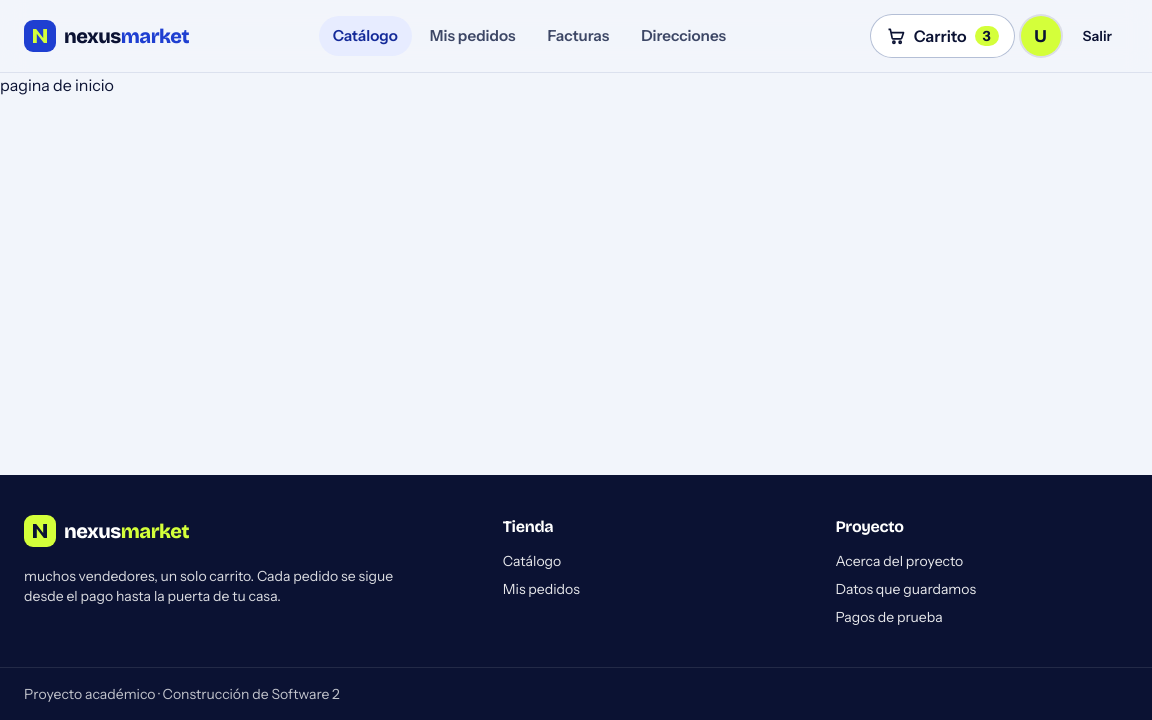
Test case: cart side panel › opens from the cart button with the lines, the total and the two ways out
This screenshot has width=1152, height=720.
Click the button with aria-label "Carrito, 3 productos" at {"x": 942, "y": 36}, box [870,14,1014,58]
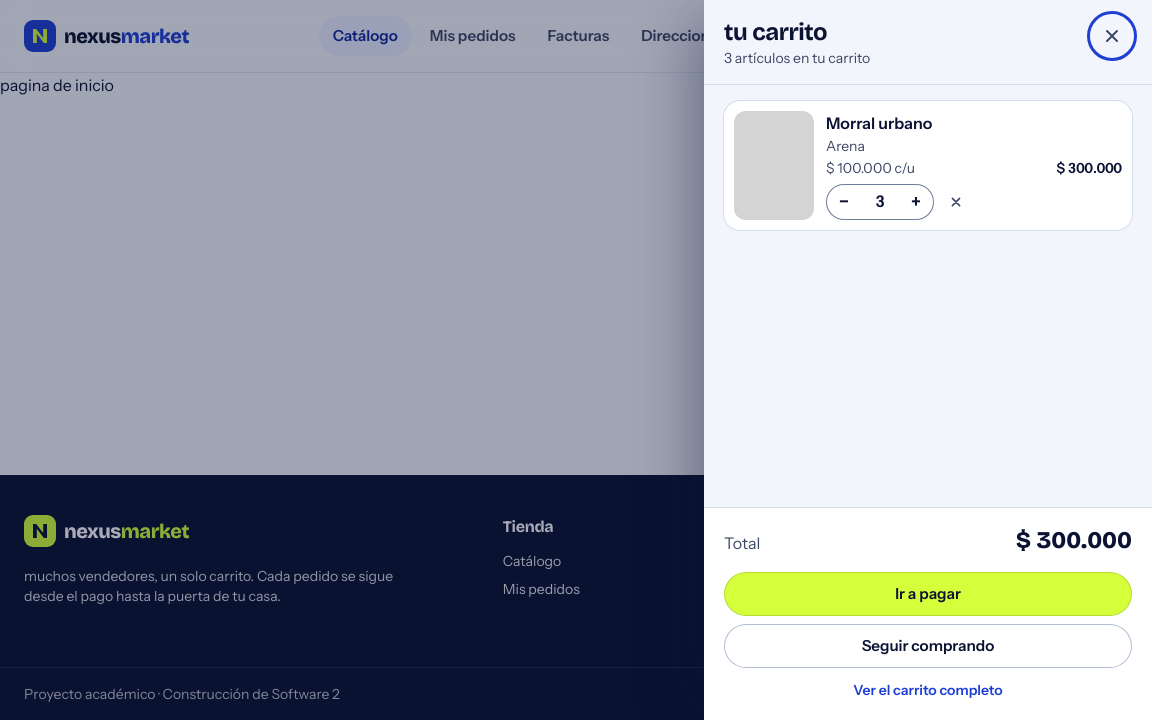
expect the link "Morral urbano" is shown: met, box [826,113,932,133]
expect the text "3 artículos en tu carrito" is shown: met, box [724,48,870,68]
expect the text "Arena" is shown: met, box [826,137,865,155]
